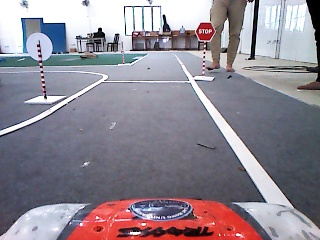stop: (193, 20, 217, 43)
